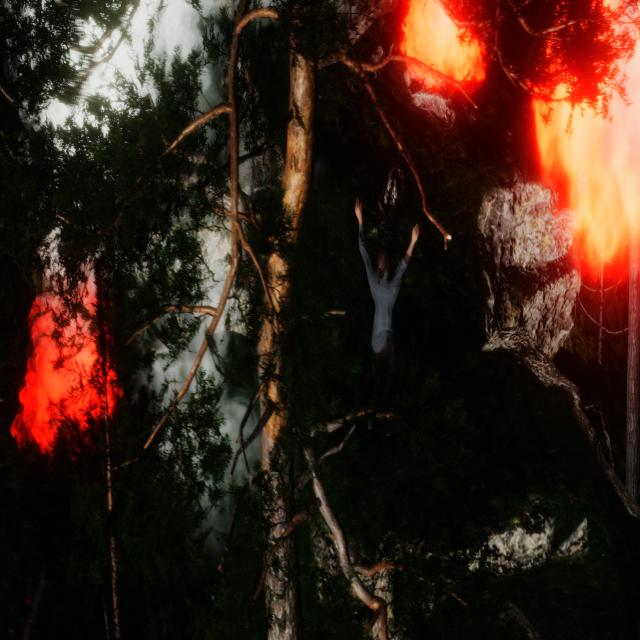Human: (348, 194, 422, 471)
